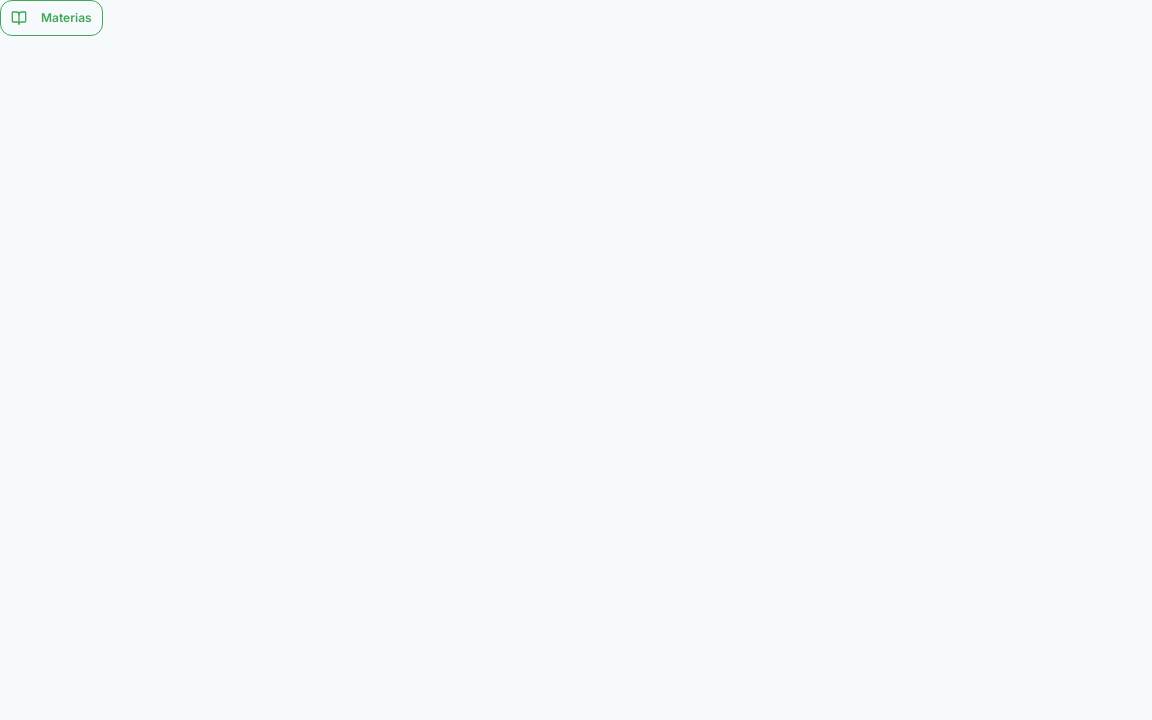
Test: ManageSubjectsDialog – Pruebas de Integración Gestión de Materias › INT-SUB04 – Muestra error cuando la API falla al crear curso
The width and height of the screenshot is (1152, 720).
Click the button "Materias" at x=51, y=18, box x1=0 y1=0 x2=103 y2=36
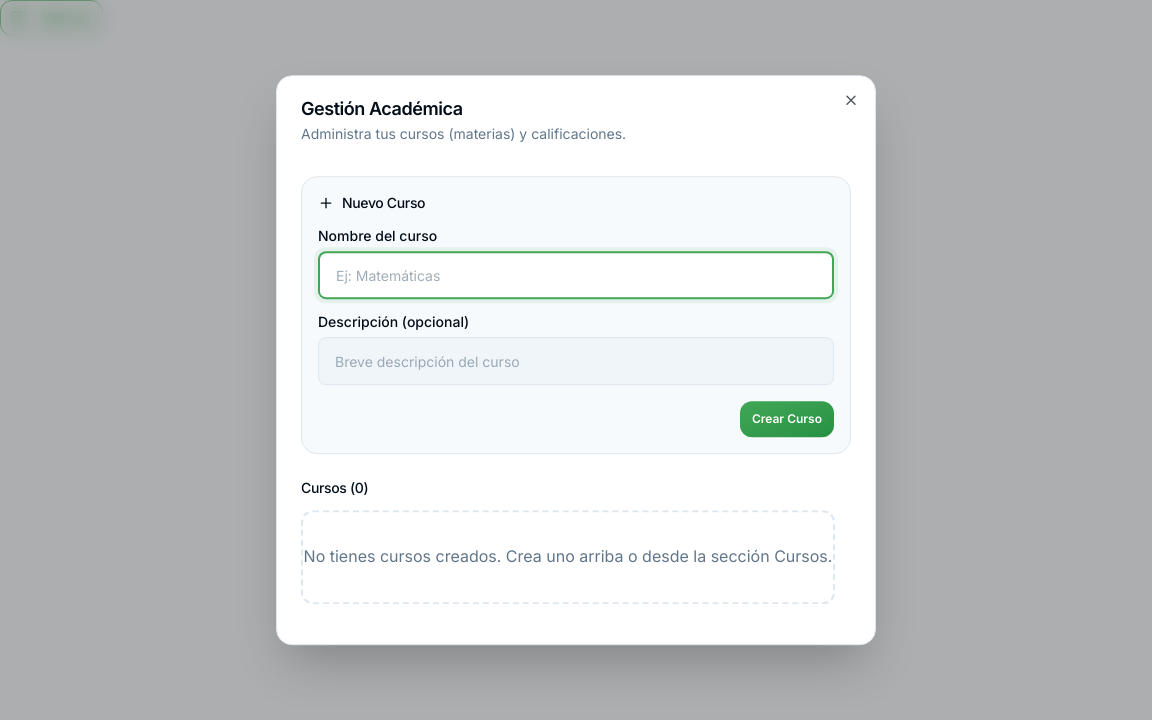
Type "Redes" into the field with placeholder "Ej: Matemáticas" at x=576, y=275, box x1=318 y1=251 x2=834 y2=299
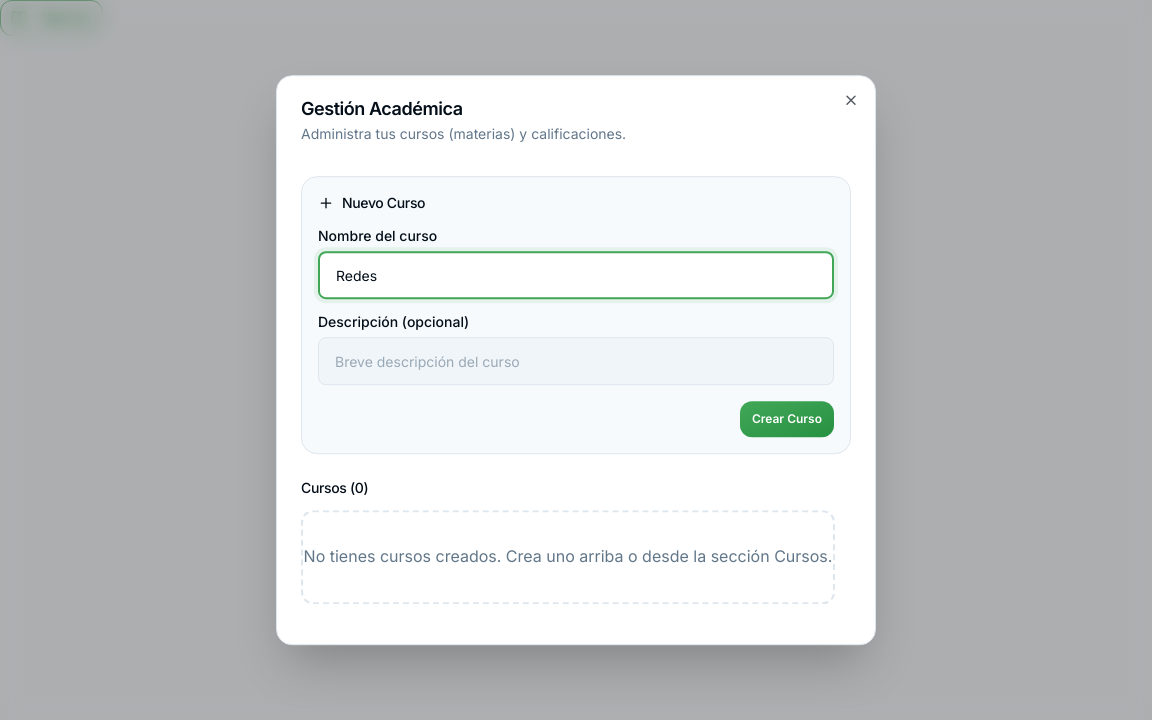
Click the button "Crear Curso" at x=787, y=419, box x1=740 y1=401 x2=834 y2=437
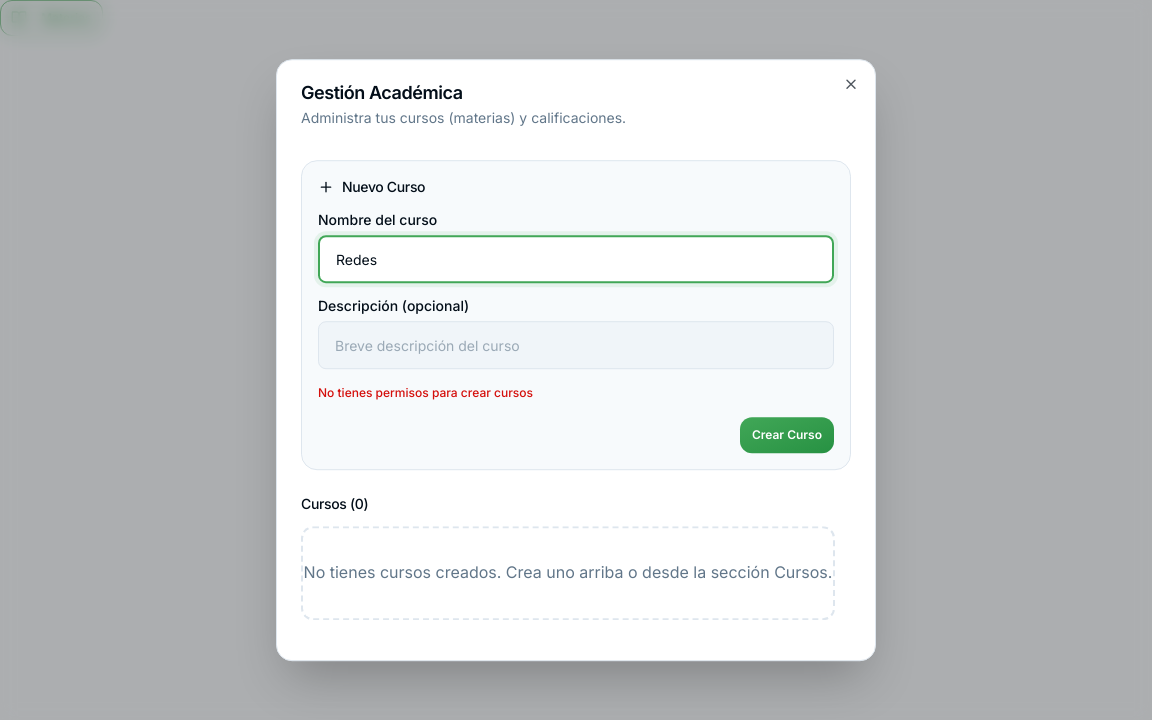
Expected: the text "No tienes permisos para crear cursos" is shown, x1=318 y1=385 x2=533 y2=400
